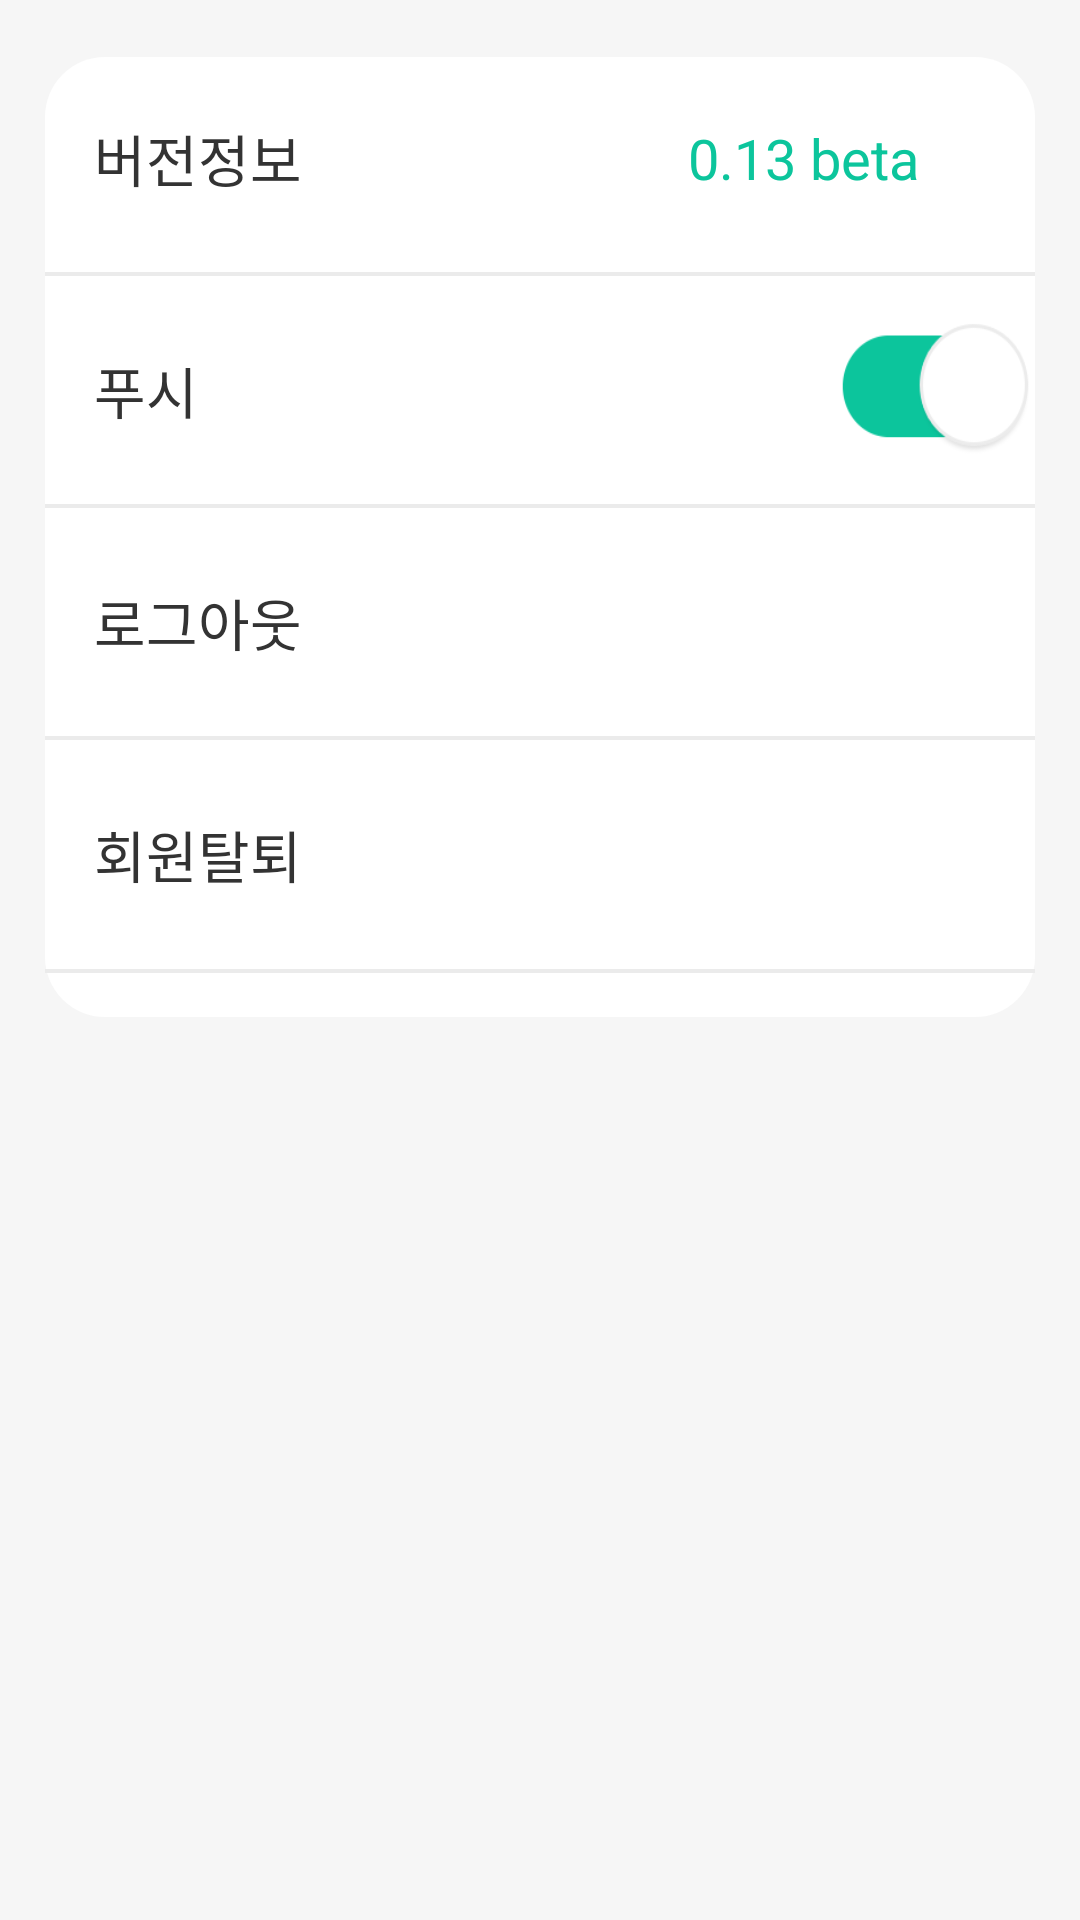

Named icons in this screenshot (1080 × 1920) and their bounding boxes, box(x1, y1, x2, y2):
config checkbox: box(842, 335, 989, 447)
